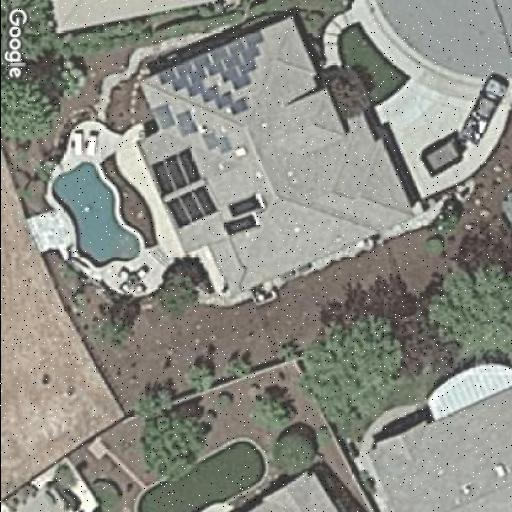solar-panel: (158, 29, 265, 117), (148, 148, 220, 229), (150, 102, 234, 156), (221, 192, 265, 238)
